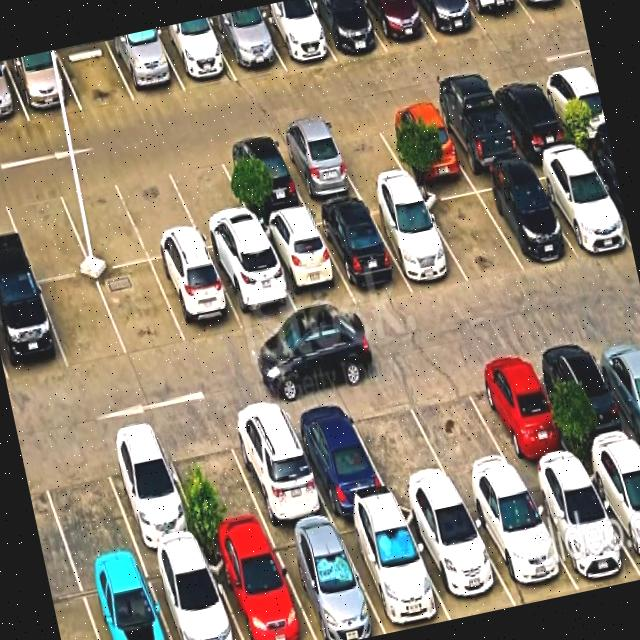empty: (399, 362, 519, 492), (158, 416, 269, 545), (341, 378, 456, 501), (34, 438, 139, 572), (418, 180, 523, 282), (164, 147, 258, 249), (55, 170, 149, 271), (113, 160, 204, 260), (1, 181, 91, 281), (95, 260, 186, 357), (38, 273, 127, 369), (322, 114, 411, 193), (56, 39, 134, 110)
occupied: (521, 466, 640, 591), (460, 479, 578, 605), (463, 348, 578, 477), (221, 397, 332, 530), (334, 506, 450, 633), (398, 495, 515, 619), (96, 426, 203, 557), (268, 521, 385, 640), (281, 391, 391, 516), (534, 335, 640, 461), (204, 534, 315, 640), (526, 150, 631, 255), (470, 168, 575, 269), (257, 212, 355, 320), (311, 201, 411, 304), (364, 191, 468, 289), (142, 547, 242, 640), (151, 250, 244, 344), (207, 239, 299, 331), (429, 89, 523, 173), (217, 135, 307, 221), (77, 559, 170, 640), (272, 124, 360, 206), (0, 279, 68, 383), (376, 101, 466, 179), (583, 449, 640, 572), (486, 75, 573, 154), (586, 325, 640, 441), (154, 20, 236, 91), (106, 28, 185, 101), (254, 2, 336, 70), (536, 65, 608, 142), (4, 49, 81, 121), (209, 11, 285, 80), (304, 0, 386, 61), (580, 144, 629, 234), (361, 0, 436, 53), (414, 0, 486, 43), (465, 0, 534, 36), (0, 60, 29, 127), (520, 0, 582, 23)
